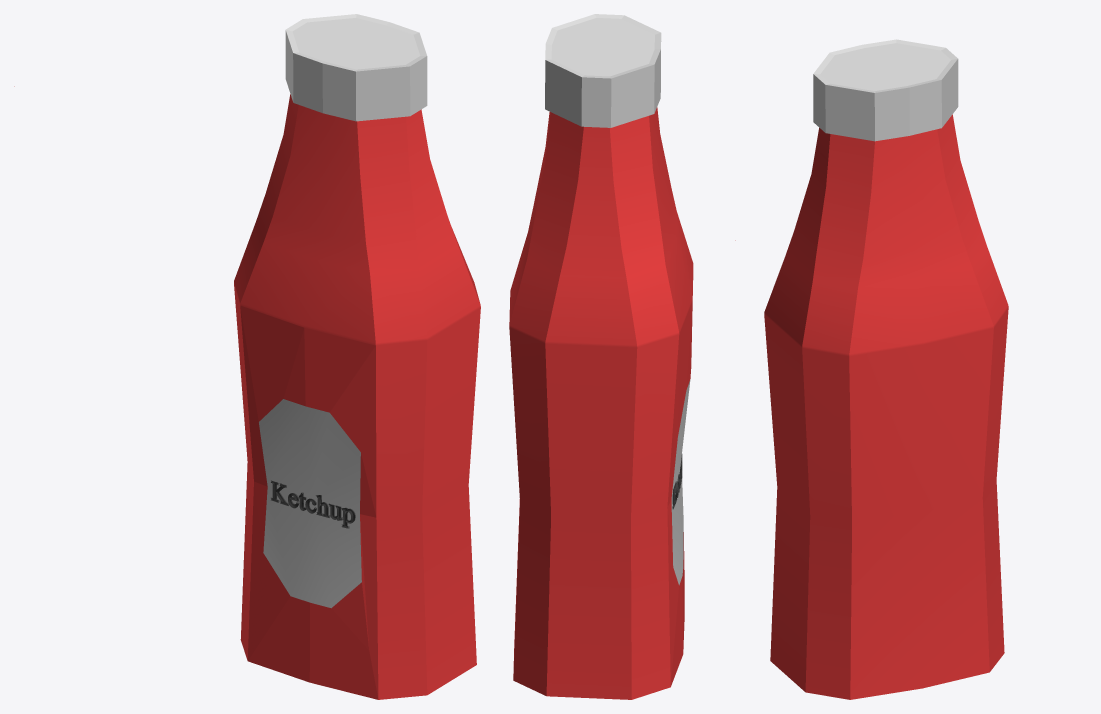
The picture shows the model from 3 angles, left to right: view 1: azimuth 30°, elevation 25°; view 2: azimuth 150°, elevation 25°; view 3: azimuth 270°, elevation 25°; orthographic projection. The views are drawn at different scales.
Parts seen in each view (by area): view 1: Box20179, Object002, Object001, Text001; view 2: Box20179, Object001, Object002; view 3: Box20179, Object001.
Boxes of the visible parts, left/top/right/bottom form: Box20179: left=234, top=94, right=480, bottom=699; Object002: left=259, top=399, right=361, bottom=608; Object001: left=285, top=14, right=427, bottom=121; Text001: left=271, top=480, right=355, bottom=528; Box20179: left=509, top=107, right=693, bottom=699; Object001: left=545, top=14, right=661, bottom=127; Object002: left=671, top=380, right=690, bottom=585; Box20179: left=764, top=114, right=1008, bottom=699; Object001: left=813, top=39, right=958, bottom=141.
Size of the model in its own units: 527 by 913 by 453.
